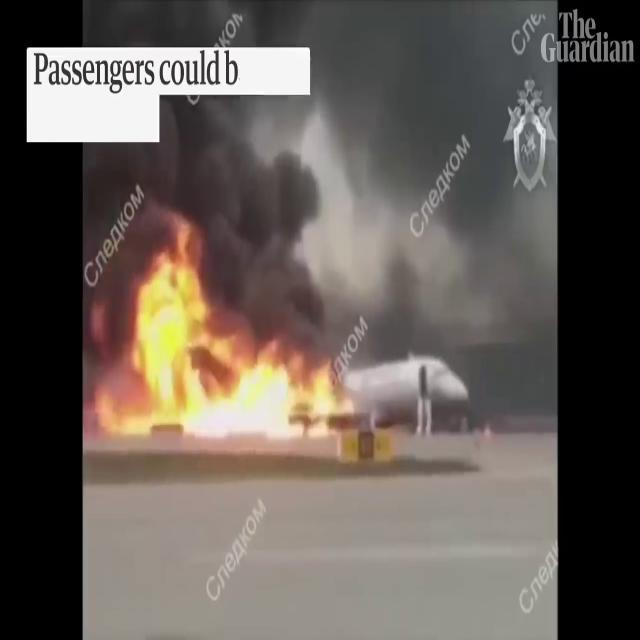Fire: (95, 236, 346, 446)
Smoke: (320, 2, 556, 390), (86, 96, 344, 326)
